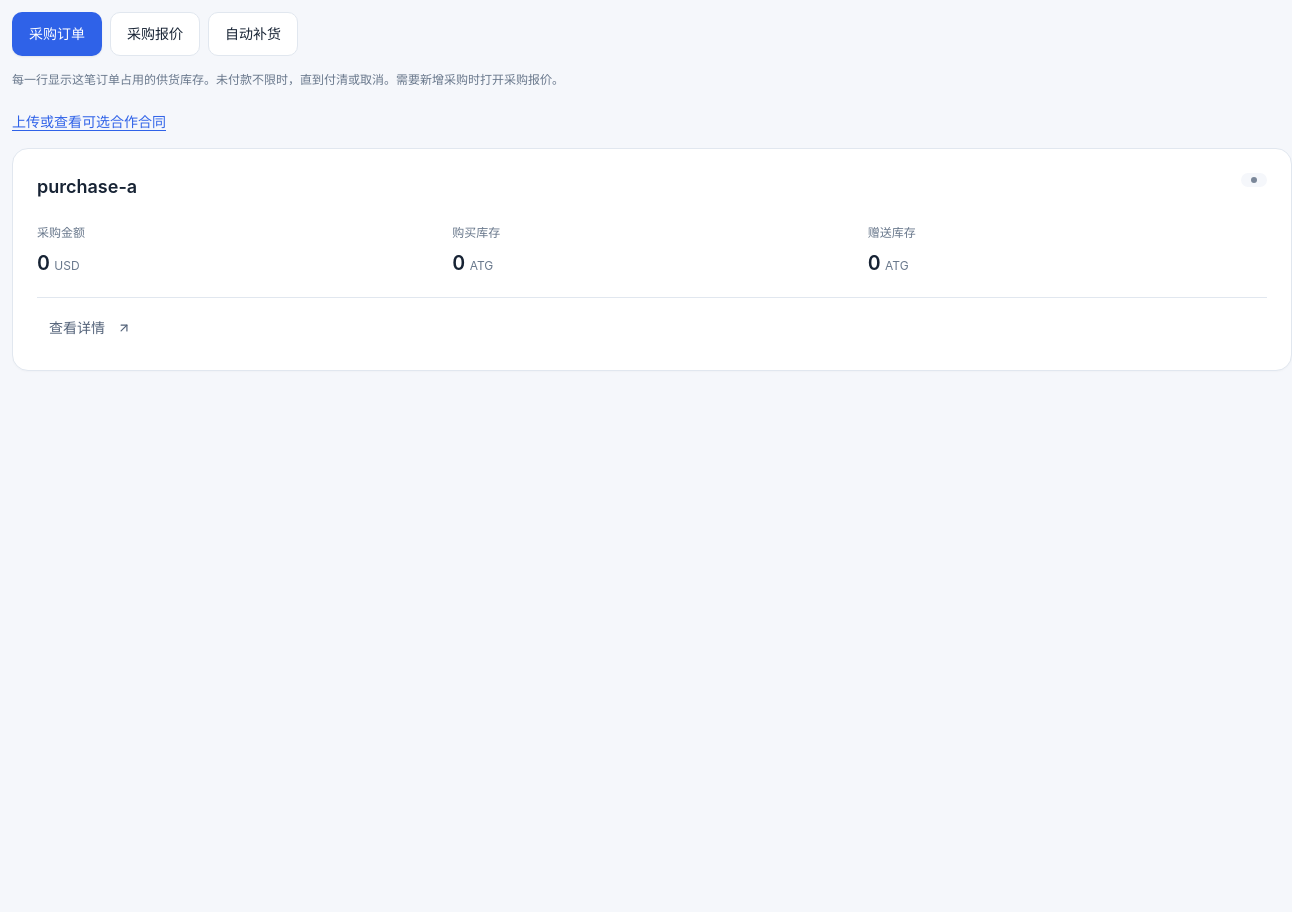
Test: separates procurement quotes, orders, authorizations and attempts
Expected: the heading "purchase-a" is shown, [37,173,137,201]
Expected: the text "quote-a" is not shown
Click the tab "采购报价" at (155, 34), box [110,12,200,56]
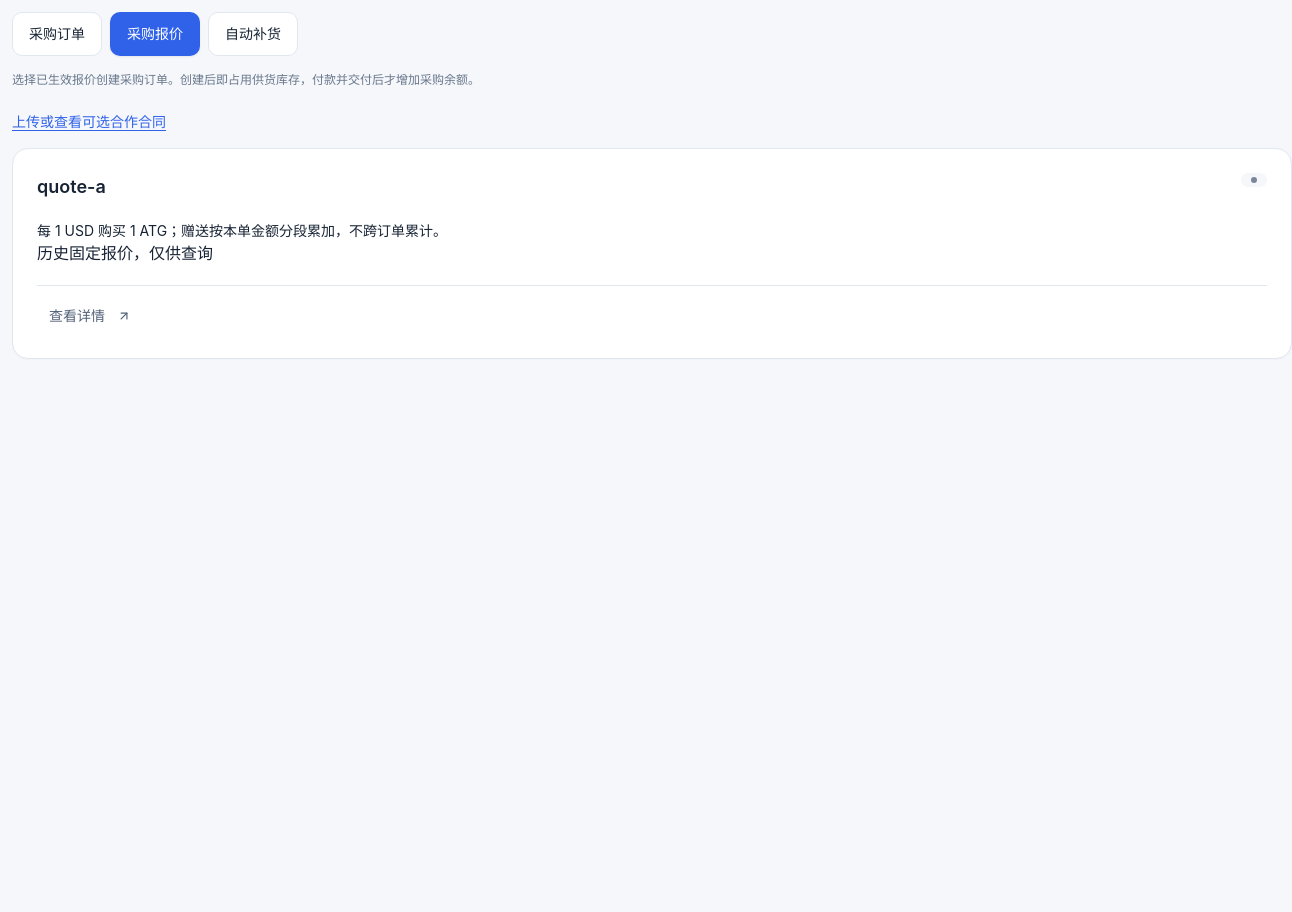
Now the heading "quote-a" is shown, box [37,173,106,201]
Now the heading "purchase-a" is gone
Click the tab "自动补货" at (253, 34), box [208,12,298,56]
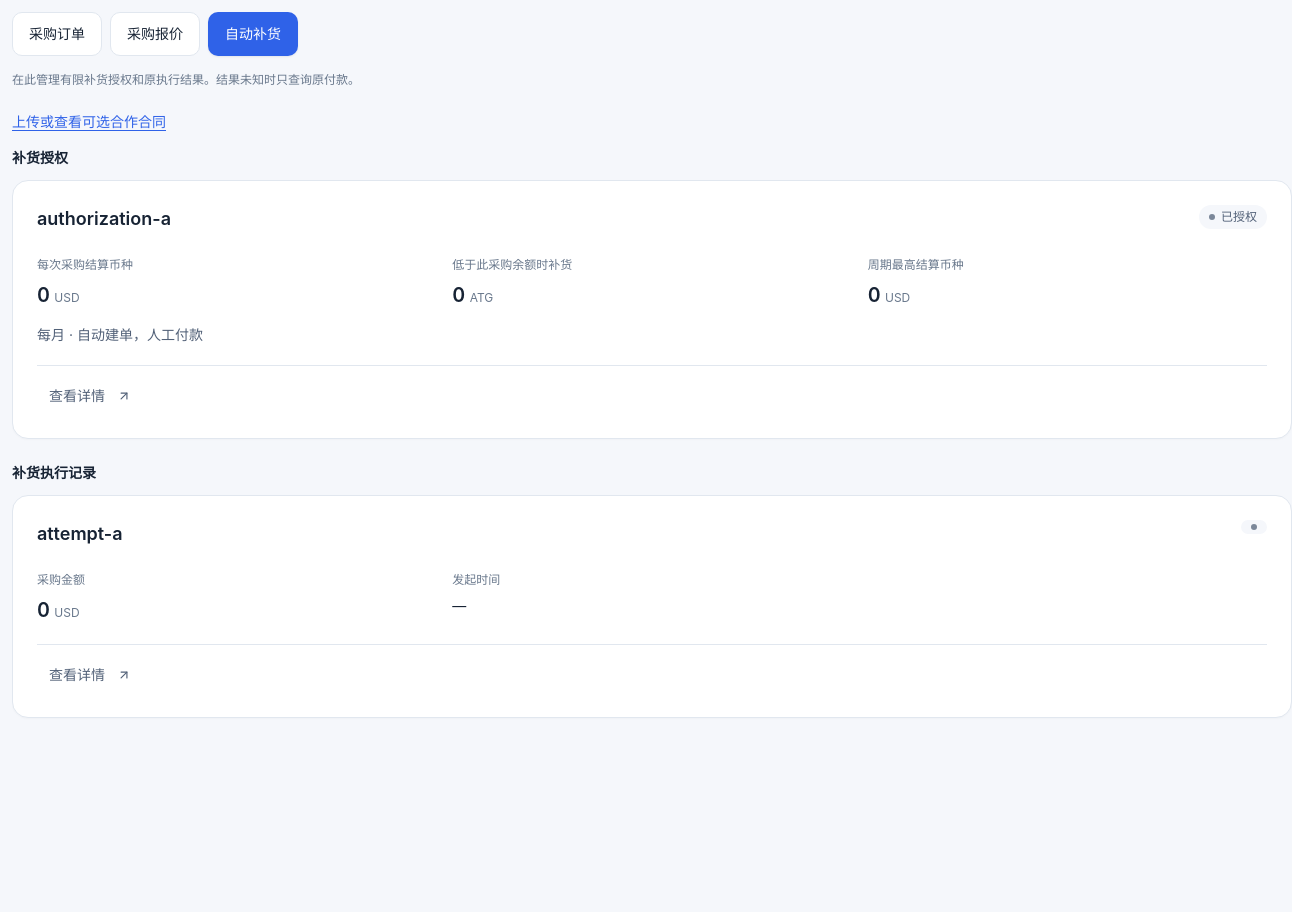
Now the heading "补货授权" is shown, box [12,149,68,166]
Now the heading "补货执行记录" is shown, box [12,464,96,481]
Now the heading "authorization-a" is shown, box [37,205,171,233]
